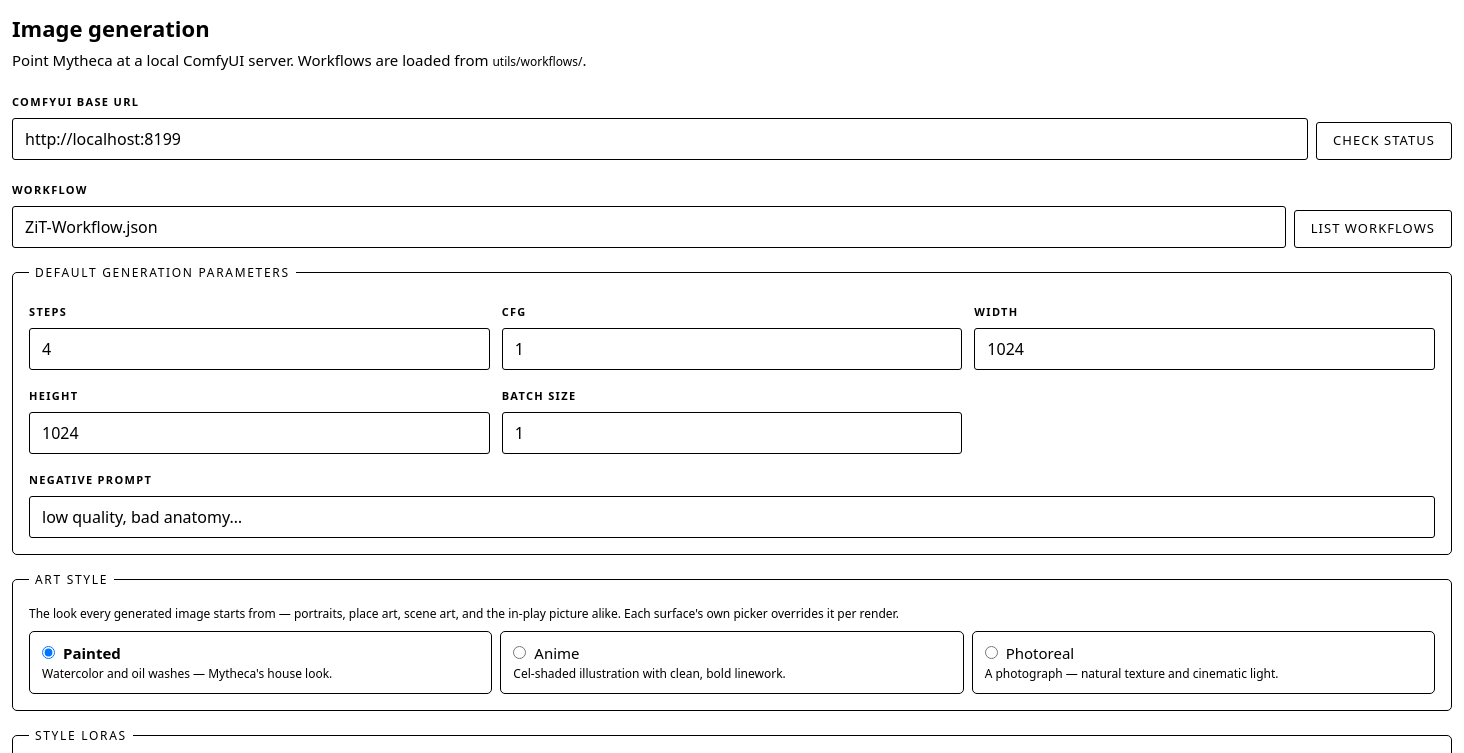
Test: ImageModelsTab › runs a status check and shows the server version
What coordinates should you click on to do the following:
click the button "Check status"
I would click on:
 (1384, 141)
Its box is [1316,122,1452,160].
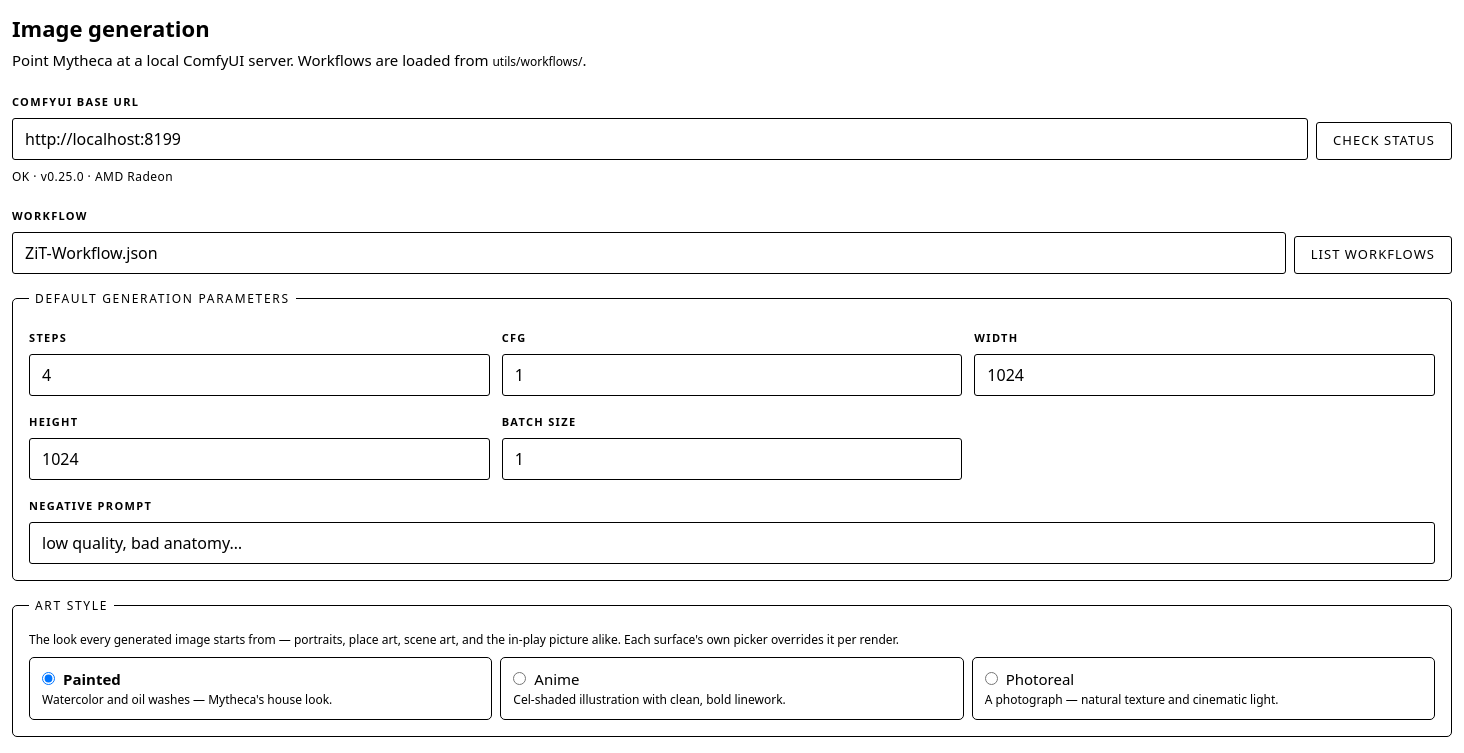
Check: the text "OK · v0.25.0 · AMD Radeon" is shown, box [12,168,173,184]
